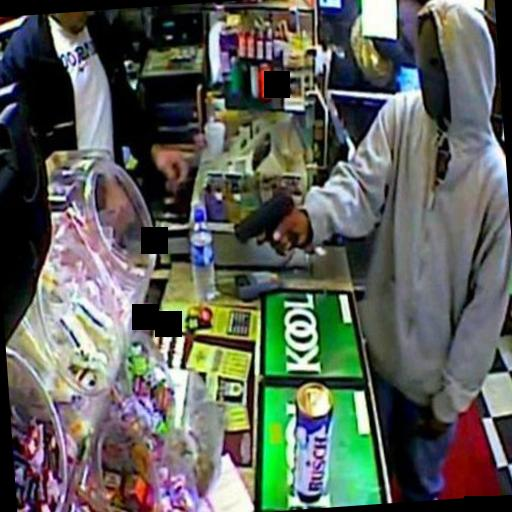Handgun: (224, 187, 304, 258)
